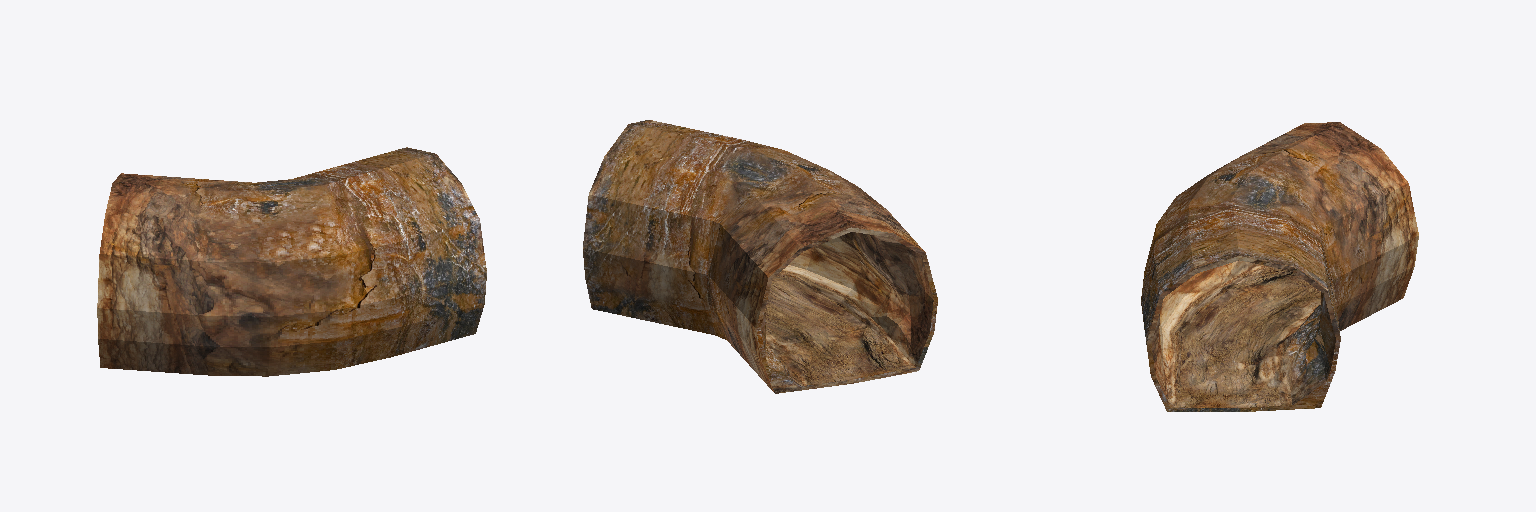
3 views of the same model, side by side, from view 1: azimuth 30°, elevation 25°; view 2: azimuth 150°, elevation 25°; view 3: azimuth 270°, elevation 25° (orthographic).
Parts seen in each view (by area): view 1: corridorA_curve1_cave4; view 2: corridorA_curve1_cave4; view 3: corridorA_curve1_cave4.
Boxes of the visible parts, x1,y1,x2,y2 form: corridorA_curve1_cave4: [97, 147, 486, 376]; corridorA_curve1_cave4: [583, 120, 937, 393]; corridorA_curve1_cave4: [1141, 122, 1418, 411].
Bounding box in the file's own units: 199 × 90.83 × 146.
1 materials, 1 textured.